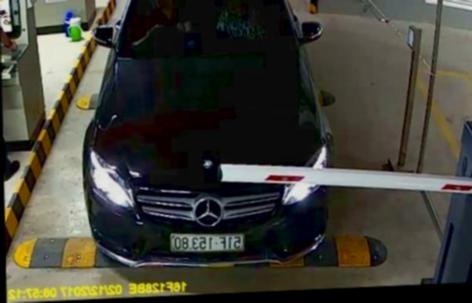License_Plate: (167, 230, 247, 254)
